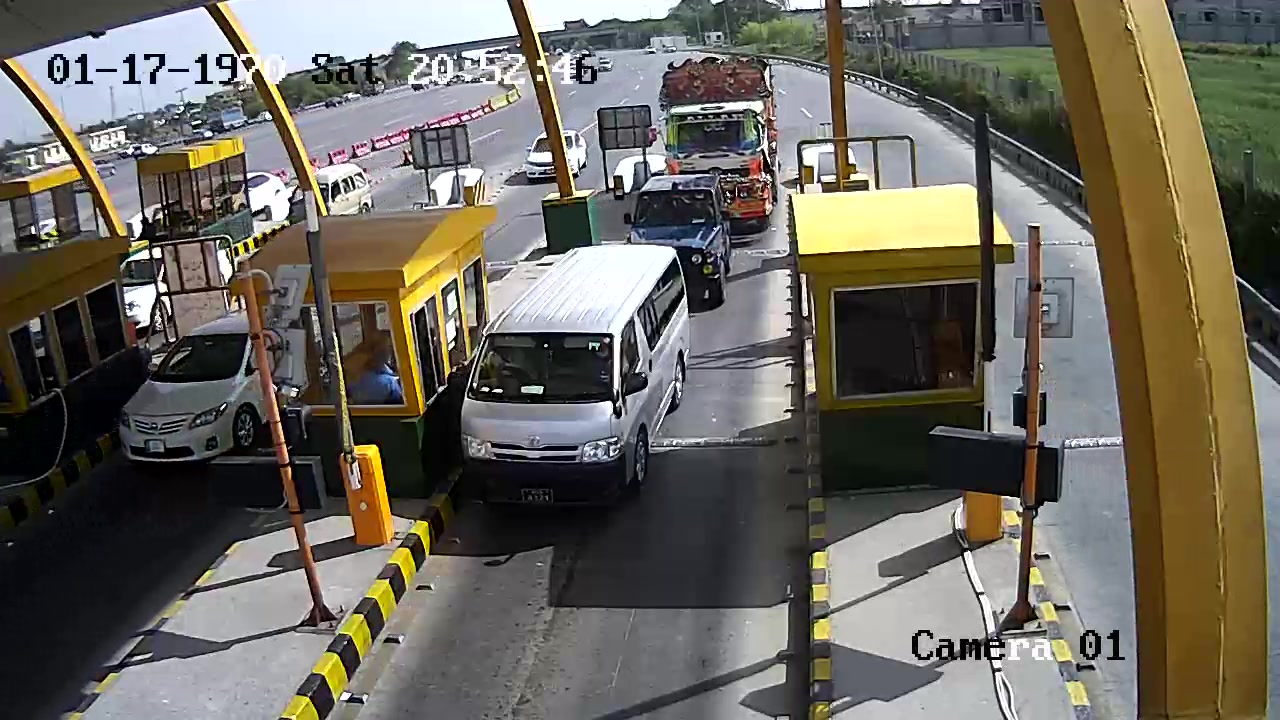F3: (454, 242, 688, 512)
